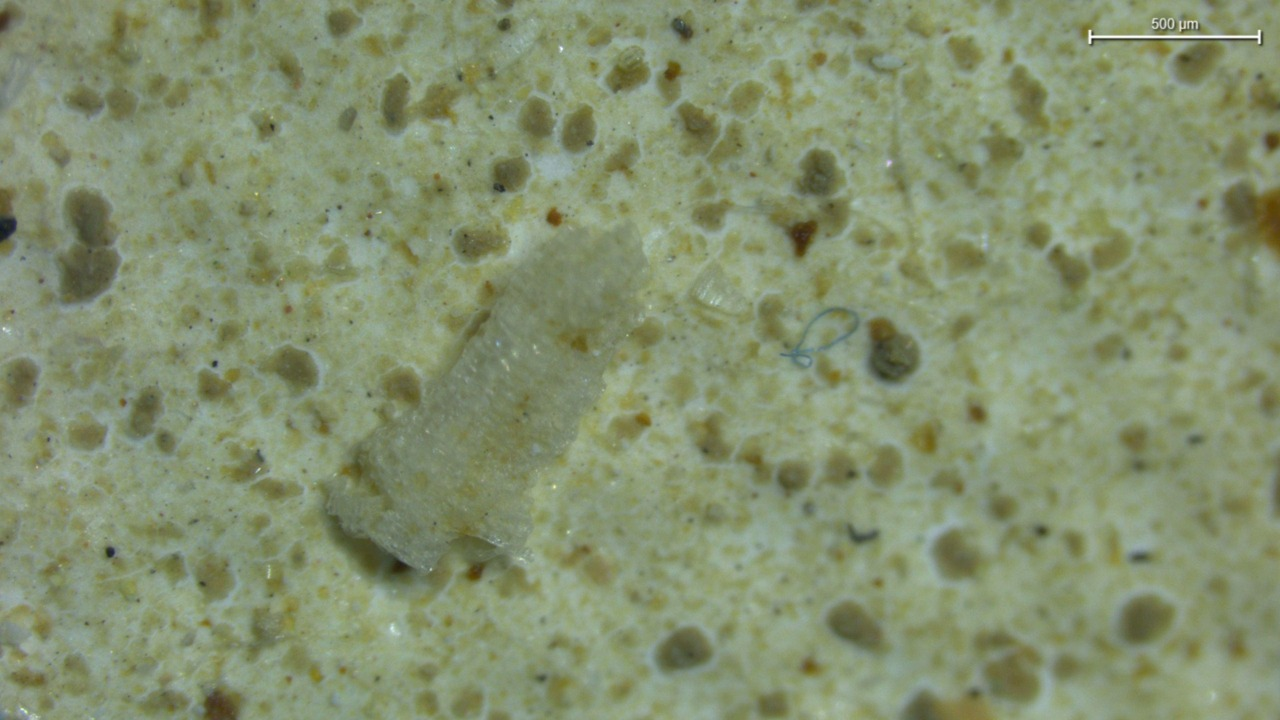microplastic_fragment: (327, 224, 648, 569), (688, 262, 751, 315)
